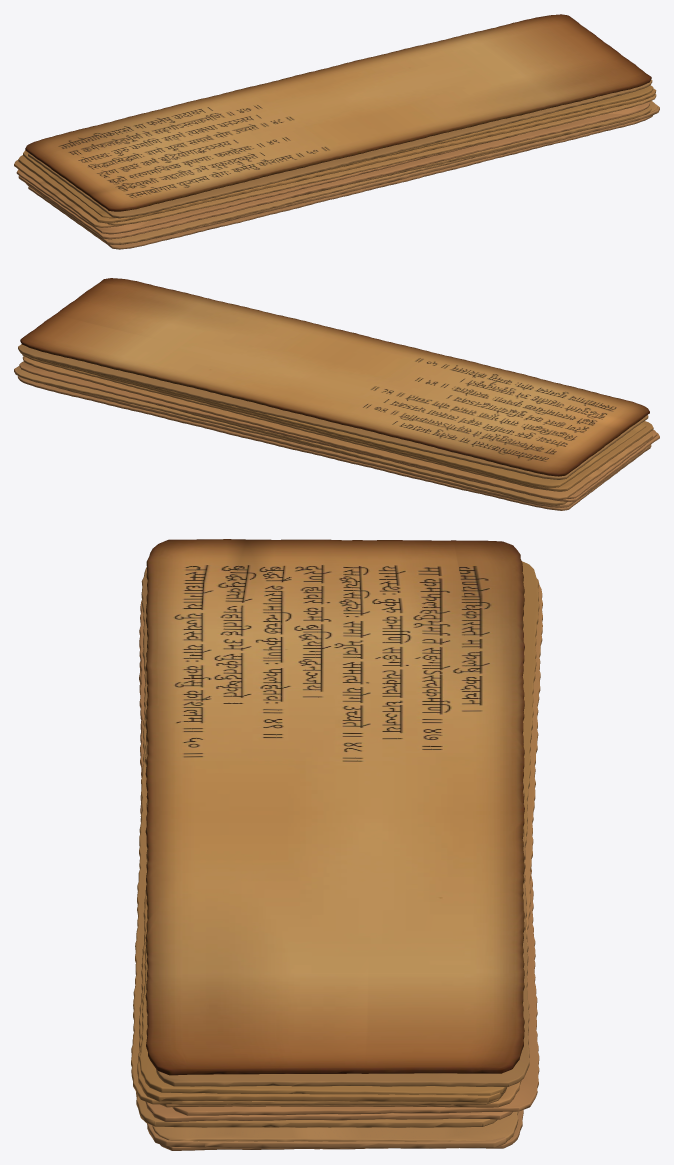
The model's file is old_book_sanskrit.glb.
3 renders of one model, top to bottom at view 1: azimuth 30°, elevation 25°; view 2: azimuth 150°, elevation 25°; view 3: azimuth 270°, elevation 25°, orthographic. The views are drawn at different scales.
Parts seen in each view (by area): view 1: Top_Folio, Folio_01; view 2: Top_Folio, Folio_01; view 3: Top_Folio, Folio_01.
Boxes of the visible parts, x1,y1,x2,y2 form: Top_Folio: (25, 14, 651, 211); Folio_01: (14, 79, 659, 249); Top_Folio: (20, 278, 649, 476); Folio_01: (14, 344, 659, 510); Top_Folio: (145, 539, 524, 1075); Folio_01: (131, 561, 542, 1150).
Size of the model in its own units: 0.4504 by 0.0315 by 0.1434.
Materials: 2 (2 with a texture image).
